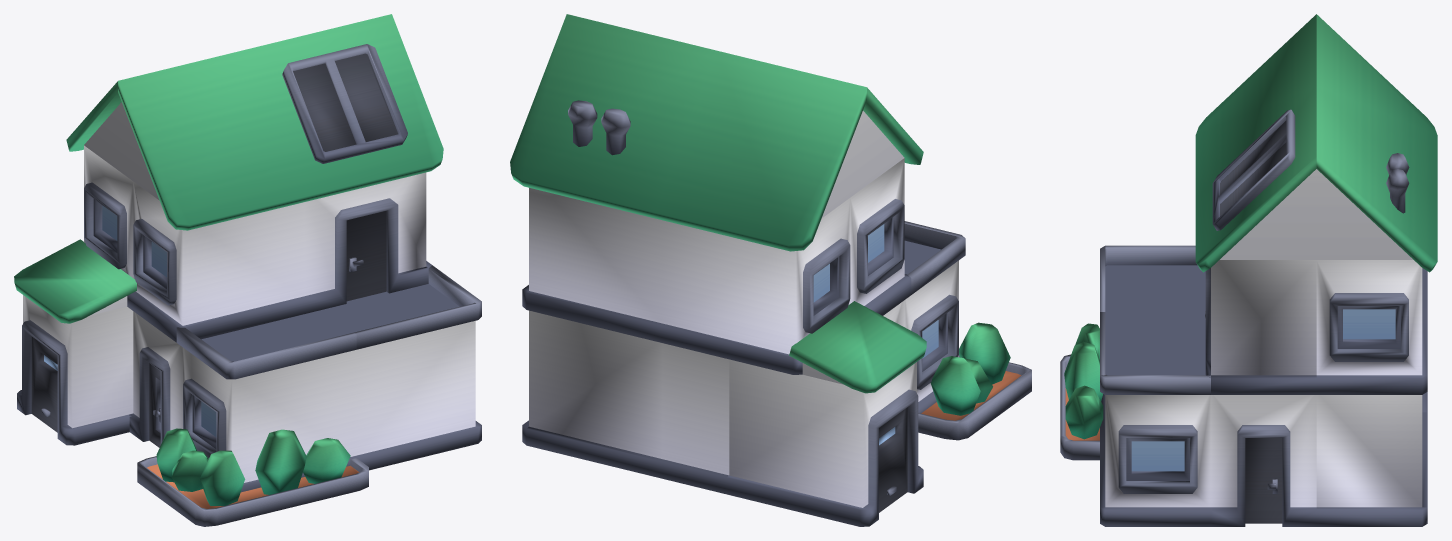
The model's file is n1_building-type-u_lev1.glb.
3 views of the same model, side by side, from view 1: azimuth 30°, elevation 25°; view 2: azimuth 150°, elevation 25°; view 3: azimuth 270°, elevation 25° (orthographic). The views are drawn at different scales.
Visible parts, largest first — view 1: n1_building-type-u_lev1; view 2: n1_building-type-u_lev1; view 3: n1_building-type-u_lev1.
Part boxes in pixels (x1,y1,x2,y2): n1_building-type-u_lev1: (14, 14, 481, 526); n1_building-type-u_lev1: (510, 14, 1031, 526); n1_building-type-u_lev1: (1060, 14, 1437, 526).
Bounding box in the file's own units: 8.42 × 8.56 × 7.8.
1 material, 1 textured.
